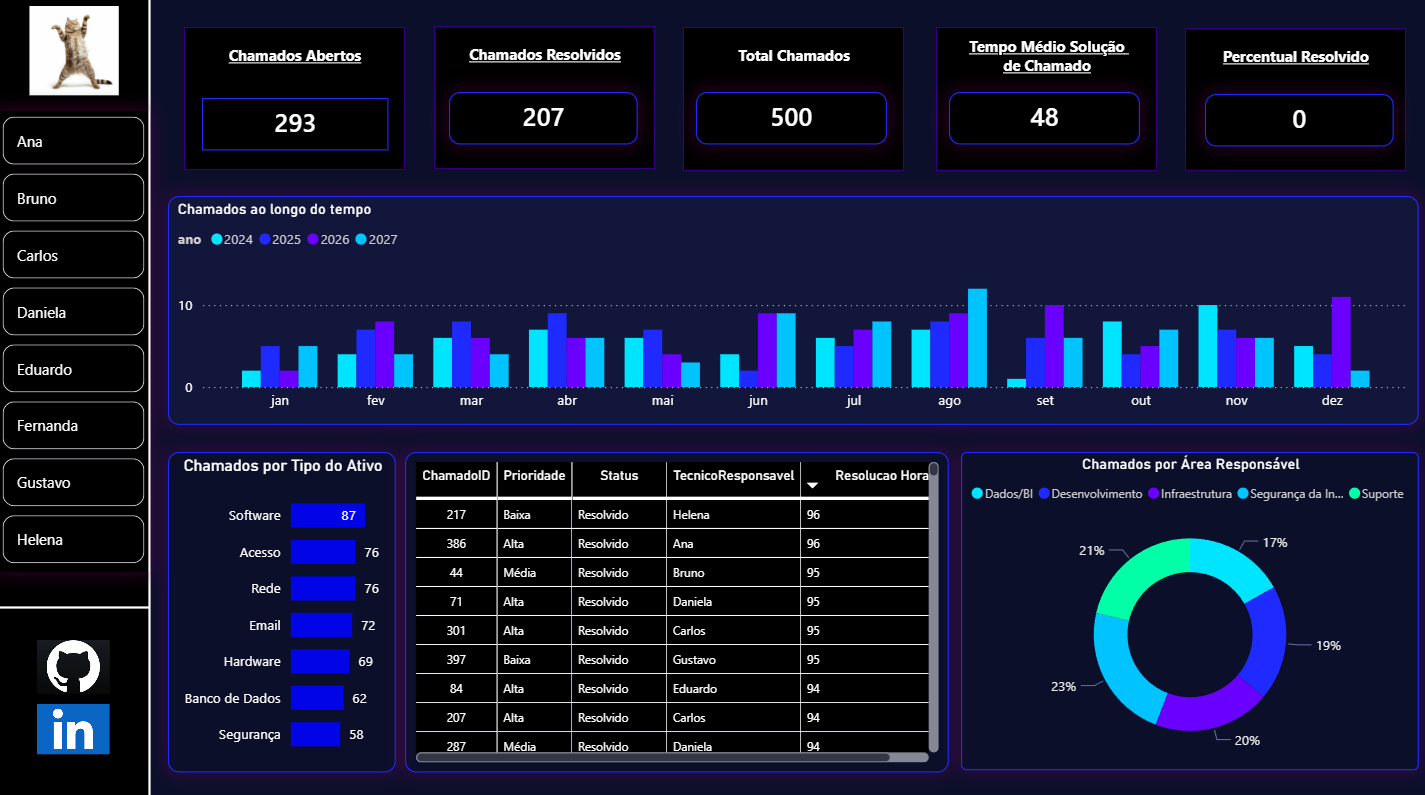

What the dashboard file says about the page in this screenshot:
{"tool":"powerbi","page":{"name":"Performace Suporte","canvas":[1280,720],"ordinal":1},"visuals":[{"type":"shape","box":[0,0,137,720],"z":0,"group":"g2"},{"type":"shape","box":[391.3,27.8,197.9,128.1],"z":0,"group":"g4"},{"type":"group","id":"g1","title":"Grupo 2","box":[167.5,28.7,197.9,128.1],"z":0},{"type":"shape","box":[167.5,28.7,197.9,128.1],"z":0,"group":"g5"},{"type":"shape","box":[614.3,28.7,197.9,129],"z":0,"group":"g6"},{"type":"shape","box":[840.9,28.7,197.9,129],"z":0,"group":"g7"},{"type":"shape","box":[1063.9,29.6,197.9,128.1],"z":0,"group":"g8"},{"type":"group","id":"g2","title":"Grupo 3","box":[0,0,145.1,720],"z":1000},{"type":"card","title":"Lucro","fields":{"Values":["CountNonNull(Chamados_TI.ChamadoID)"]},"box":[626.3,86.7,171,46.9],"z":1000,"group":"g6"},{"type":"card","title":"Lucro","fields":{"Values":["Avg(Chamados_TI.TempoResolucaoHoras)"]},"box":[852.9,86.7,171,46.9],"z":1000,"group":"g7"},{"type":"card","title":"Lucro","fields":{"Values":["Chamados_TI.Chamados Resolvidos"]},"box":[404.8,87.3,169.3,46.6],"z":1000,"group":"g4"},{"type":"card","title":"Lucro","fields":{"Values":["Chamados_TI.Percentual Resolvidos"]},"box":[1082.1,89.1,169.3,46.6],"z":1000,"group":"g8"},{"type":"card","title":"Lucro","fields":{"Values":["Chamados_TI.Chamados Abertos"]},"box":[183.3,92.2,167.5,46.6],"z":1000,"group":"g5"},{"type":"clusteredBarChart","title":"Chamados por Tipo do Ativo","fields":{"Category":["Chamados_TI.TipoChamado"],"Y":["CountNonNull(Chamados_TI.ChamadoID)"]},"box":[153.1,409.3,204.2,286.6],"z":2000},{"type":"donutChart","title":"Chamados por Área Responsável","fields":{"Series":["Chamados_TI.AreaResponsavel"],"Y":["CountNonNull(Chamados_TI.ChamadoID)"]},"box":[863.3,409.3,410.1,284.8],"z":3000},{"type":"lineClusteredColumnComboChart","title":"Chamados ao longo do tempo","fields":{"Y":["Chamados_TI.Chamados Abertos"],"Series":["Calendario.ano"],"Category":["Calendario.mes_abrev"]},"box":[153.1,180,1120.3,205.1],"z":4000},{"type":"group","id":"g3","title":"Grupo 2","box":[391.3,27.8,197.9,128.1],"z":5000},{"type":"group","id":"g4","title":"Grupo 1","box":[391.3,27.8,197.9,128.1],"z":5000,"group":"g3"},{"type":"group","id":"g5","title":"Grupo 1","box":[167.5,28.7,197.9,128.1],"z":5000,"group":"g1"},{"type":"group","id":"g6","title":"Grupo 1","box":[614.3,28.7,197.9,129],"z":5000,"group":"g9"},{"type":"group","id":"g7","title":"Grupo 1","box":[840.9,28.7,197.9,129],"z":5000,"group":"g11"},{"type":"group","id":"g8","title":"Grupo 1","box":[1063.9,29.6,197.9,128.1],"z":5000,"group":"g10"},{"type":"group","id":"g9","title":"Grupo 2","box":[614.3,28.7,197.9,129],"z":6000},{"type":"textbox","box":[857.1,32.6,166.6,46.6],"z":6000,"group":"g11"},{"type":"textbox","box":[407.4,39.4,166.6,31.3],"z":6000,"group":"g3"},{"type":"textbox","box":[183.6,40.3,166.6,31.3],"z":6000,"group":"g1"},{"type":"textbox","box":[630.4,40.4,166.6,31.6],"z":6000,"group":"g9"},{"type":"textbox","box":[1080,41.2,166.6,31.3],"z":6000,"group":"g10"},{"type":"group","id":"g10","title":"Grupo 2","box":[1063.9,29.6,197.9,128.1],"z":7000},{"type":"group","id":"g11","title":"Grupo 2","box":[840.9,28.7,197.9,129],"z":8000},{"type":"shape","box":[128.1,0,17,720],"z":8001,"group":"g2"},{"type":"tableEx","fields":{"Values":["Chamados_TI.ChamadoID","Chamados_TI.Prioridade","Chamados_TI.Status","Chamados_TI.TecnicoResponsavel","Chamados_TI.Resolucao Horas"]},"box":[365.4,409.3,487.2,286.6],"z":9000},{"type":"actionButton","box":[35.8,634.9,65.4,44.8],"z":10000},{"type":"actionButton","box":[35.8,577.6,65.4,48.4],"z":11000},{"type":"shape","box":[0,536.4,137,24.2],"z":12000},{"type":"advancedSlicerVisual","fields":{"Values":["Chamados_TI.TecnicoResponsavel"]},"box":[0,103.9,137,412.8],"z":13000},{"type":"image","box":[8.1,9.9,121.8,79.7],"z":14000}]}

Visuals, with their boxes on the page's 1280x720 design canvas (x1, y1, x2, y2). These are canvas units, not pixel positions in the 1425x795 screenshot, which may show the page scaled, cropped or inside an application window:
shape: Rect(0, 0, 137, 720)
shape: Rect(391, 28, 589, 156)
"Grupo 2" group: Rect(168, 29, 365, 157)
shape: Rect(168, 29, 365, 157)
shape: Rect(614, 29, 812, 158)
shape: Rect(841, 29, 1039, 158)
shape: Rect(1064, 30, 1262, 158)
"Grupo 3" group: Rect(0, 0, 145, 720)
"Lucro" card: Rect(626, 87, 797, 134)
"Lucro" card: Rect(853, 87, 1024, 134)
"Lucro" card: Rect(405, 87, 574, 134)
"Lucro" card: Rect(1082, 89, 1251, 136)
"Lucro" card: Rect(183, 92, 351, 139)
"Chamados por Tipo do Ativo" clusteredBarChart: Rect(153, 409, 357, 696)
"Chamados por Área Responsável" donutChart: Rect(863, 409, 1273, 694)
"Chamados ao longo do tempo" lineClusteredColumnComboChart: Rect(153, 180, 1273, 385)
"Grupo 2" group: Rect(391, 28, 589, 156)
"Grupo 1" group: Rect(391, 28, 589, 156)
"Grupo 1" group: Rect(168, 29, 365, 157)
"Grupo 1" group: Rect(614, 29, 812, 158)
"Grupo 1" group: Rect(841, 29, 1039, 158)
"Grupo 1" group: Rect(1064, 30, 1262, 158)
"Grupo 2" group: Rect(614, 29, 812, 158)
textbox: Rect(857, 33, 1024, 79)
textbox: Rect(407, 39, 574, 71)
textbox: Rect(184, 40, 350, 72)
textbox: Rect(630, 40, 797, 72)
textbox: Rect(1080, 41, 1247, 72)
"Grupo 2" group: Rect(1064, 30, 1262, 158)
"Grupo 2" group: Rect(841, 29, 1039, 158)
shape: Rect(128, 0, 145, 720)
tableEx - Chamados_TI.ChamadoID x Chamados_TI.Prioridade: Rect(365, 409, 853, 696)
actionButton: Rect(36, 635, 101, 680)
actionButton: Rect(36, 578, 101, 626)
shape: Rect(0, 536, 137, 561)
advancedSlicerVisual - Chamados_TI.TecnicoResponsavel: Rect(0, 104, 137, 517)
image: Rect(8, 10, 130, 90)
